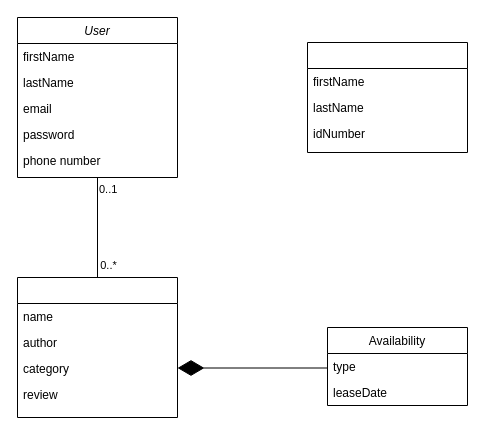
This 485x435 diagram has some shape labels left out. Each missing label, with the box of its shape:
Admin: (306, 42, 468, 152)
Book: (16, 276, 178, 418)
